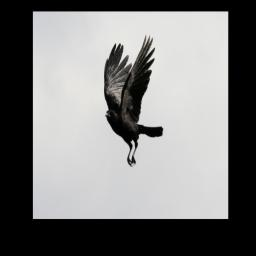Crow: (102, 34, 164, 170)
